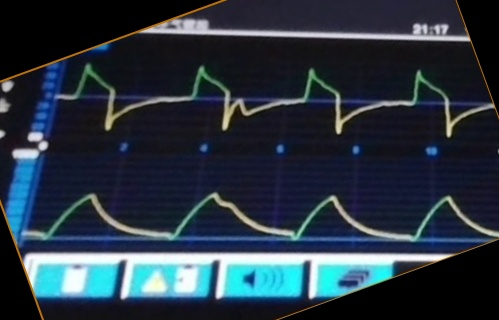Premature_cycling Flow: (71, 56, 476, 138)
Premature_cycling Volume: (41, 168, 479, 245)
